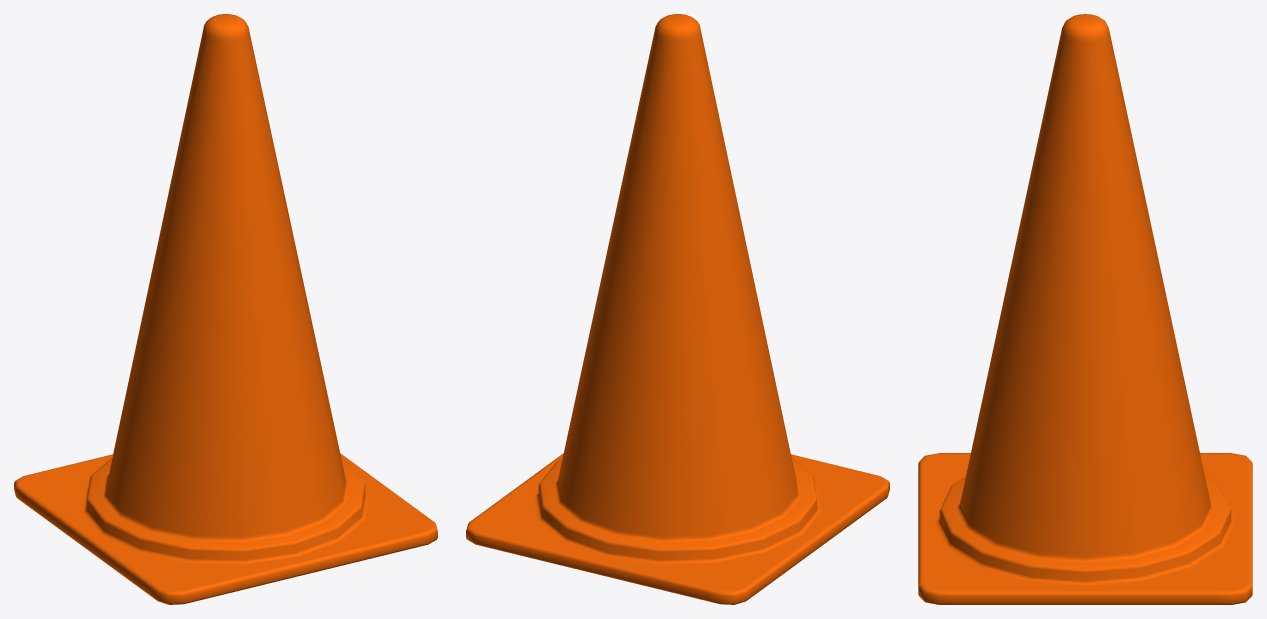
File: pylon.glb
The picture shows the model from 3 angles, left to right: view 1: azimuth 30°, elevation 25°; view 2: azimuth 150°, elevation 25°; view 3: azimuth 270°, elevation 25°; orthographic projection. The views are drawn at different scales.
Parts seen in each view (by area): view 1: SM_ConstructionCone; view 2: SM_ConstructionCone; view 3: SM_ConstructionCone.
Boxes of the visible parts, box(x1,y1,x2,y2) form: SM_ConstructionCone: box(14, 14, 437, 604); SM_ConstructionCone: box(466, 14, 889, 604); SM_ConstructionCone: box(918, 14, 1252, 604).
Bounding box in the file's own units: 0.3441 × 0.5858 × 0.3441.
